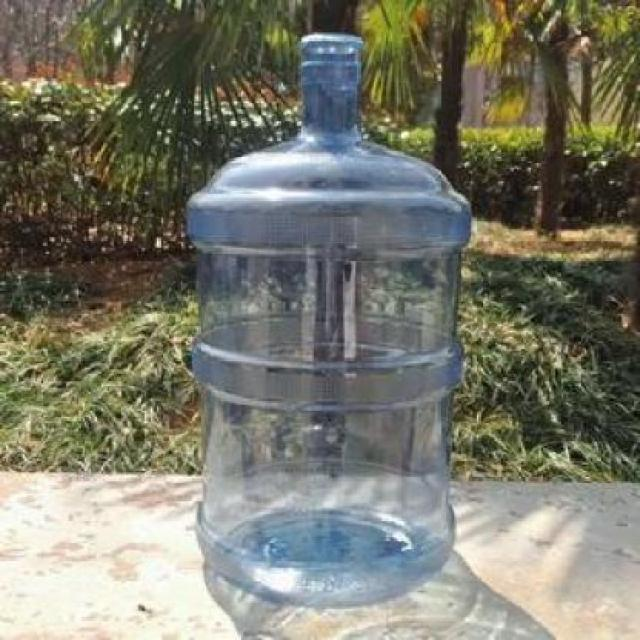coolerbottle: (177, 27, 471, 616)
